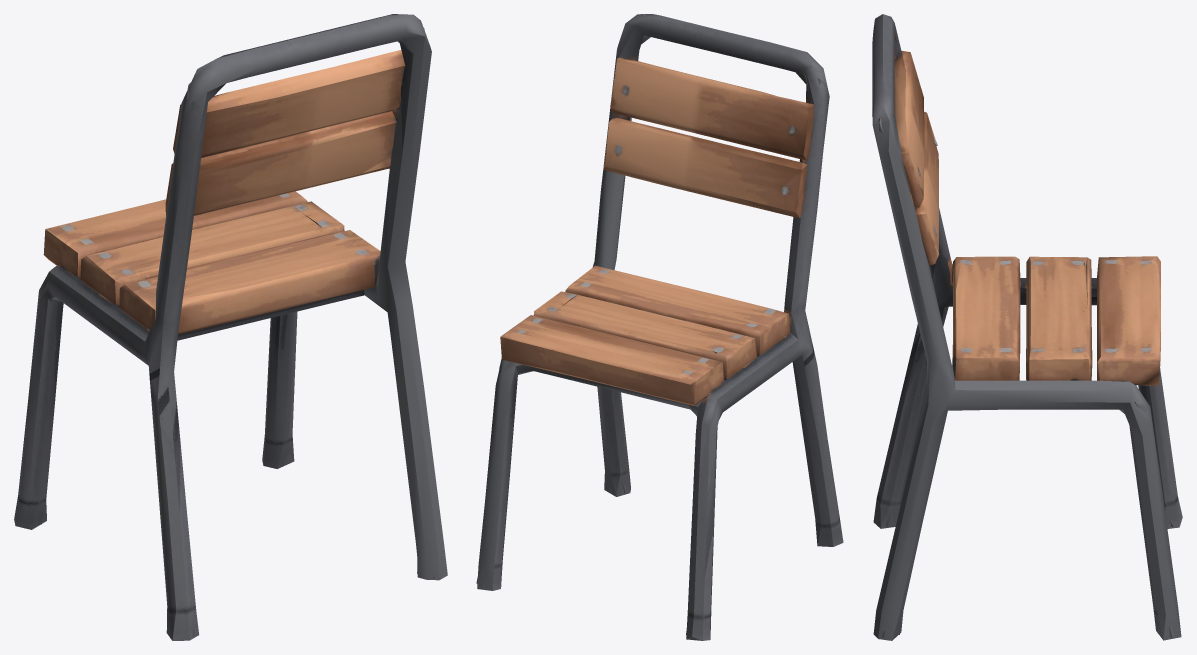
Rendered from seat_cafe-table_v2.glb.
3 views of the same model, side by side, from view 1: azimuth 30°, elevation 25°; view 2: azimuth 150°, elevation 25°; view 3: azimuth 270°, elevation 25° (orthographic). The views are drawn at different scales.
Visible parts, largest first — view 1: body; view 2: body; view 3: body.
Boxes of the visible parts, x1,y1,x2,y2 form: body: (14,14,447,640); body: (476,14,843,640); body: (872,14,1182,640).
Size of the model in its own units: 0.4619 by 0.9124 by 0.4899.
1 material, 1 textured.
